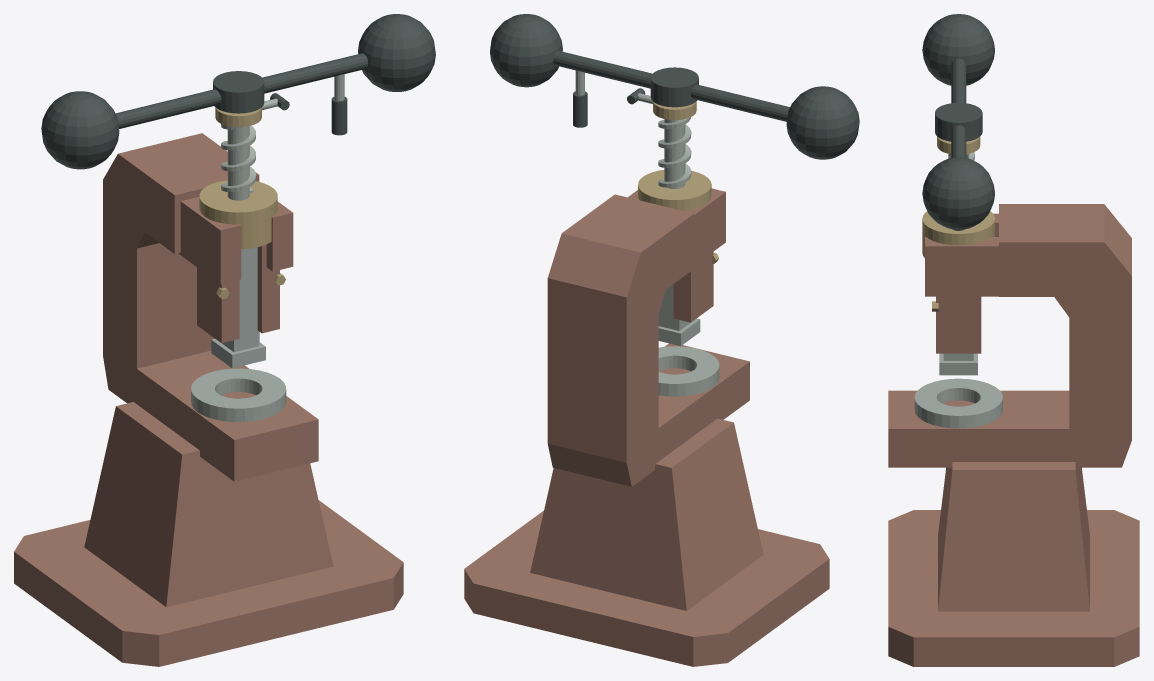
The picture shows the model from 3 angles, left to right: view 1: azimuth 30°, elevation 25°; view 2: azimuth 150°, elevation 25°; view 3: azimuth 270°, elevation 25°; orthographic projection. The views are drawn at different scales.
Visible parts, largest first — view 1: WholeContinuousOpenCMainCasting, WholeTaperedSupportingPedestal, WholeChamferedGroundSole, WholeRoundedFlyArmWeight0, WholeRoundedFlyArmWeight1, WholeAnnularLowerBedRing, WholeUpperNutSupportCheek0, WholeFullTransverseFlyArm, WholeUpperAnnularScrewNutExterior, WholeSquareRamGuideBlock0, WholeCompleteSquareGuidedRam, WholeFlyArmCentralHub (+6 smaller); view 2: WholeContinuousOpenCMainCasting, WholeTaperedSupportingPedestal, WholeChamferedGroundSole, WholeRoundedFlyArmWeight0, WholeRoundedFlyArmWeight1, WholeFullTransverseFlyArm, WholeAnnularLowerBedRing, WholeUpperAnnularScrewNutExterior, WholeSquareRamGuideBlock0, WholeUpperNutSupportCheek0, WholeFlyArmCentralHub, WholeCoarseFourTurnScrewRib (+3 smaller); view 3: WholeContinuousOpenCMainCasting, WholeChamferedGroundSole, WholeTaperedSupportingPedestal, WholeRoundedFlyArmWeight1, WholeUpperNutSupportCheek1, WholeRoundedFlyArmWeight0, WholeAnnularLowerBedRing, WholeSquareRamGuideBlock1, WholeUpperAnnularScrewNutExterior, WholeFlyArmCentralHub, WholeFullTransverseFlyArm, WholeBluntLowerRamNose (+1 smaller).
Part boxes in pixels (x1=…): WholeContinuousOpenCMainCasting: x1=103, y1=133, x2=318, y2=481; WholeTaperedSupportingPedestal: x1=84, y1=402, x2=333, y2=607; WholeChamferedGroundSole: x1=14, y1=500, x2=403, y2=666; WholeRoundedFlyArmWeight0: x1=41, y1=91, x2=119, y2=169; WholeRoundedFlyArmWeight1: x1=358, y1=14, x2=435, y2=91; WholeAnnularLowerBedRing: x1=191, y1=368, x2=286, y2=422; WholeUpperNutSupportCheek0: x1=178, y1=197, x2=241, y2=284; WholeFullTransverseFlyArm: x1=115, y1=53, x2=367, y2=128; WholeUpperAnnularScrewNutExterior: x1=199, y1=180, x2=277, y2=249; WholeSquareRamGuideBlock0: x1=197, y1=267, x2=239, y2=343; WholeCompleteSquareGuidedRam: x1=222, y1=247, x2=259, y2=351; WholeFlyArmCentralHub: x1=213, y1=71, x2=264, y2=113; WholeContinuousOpenCMainCasting: x1=547, y1=194, x2=749, y2=486; WholeTaperedSupportingPedestal: x1=530, y1=418, x2=763, y2=610; WholeChamferedGroundSole: x1=464, y1=510, x2=829, y2=666; WholeRoundedFlyArmWeight0: x1=786, y1=86, x2=859, y2=159; WholeRoundedFlyArmWeight1: x1=490, y1=14, x2=562, y2=87; WholeFullTransverseFlyArm: x1=553, y1=50, x2=789, y2=121; WholeAnnularLowerBedRing: x1=658, y1=346, x2=719, y2=396; WholeUpperAnnularScrewNutExterior: x1=638, y1=170, x2=711, y2=210; WholeSquareRamGuideBlock0: x1=673, y1=252, x2=713, y2=322; WholeUpperNutSupportCheek0: x1=684, y1=188, x2=725, y2=265; WholeFlyArmCentralHub: x1=650, y1=67, x2=698, y2=107; WholeCoarseFourTurnScrewRib: x1=658, y1=117, x2=691, y2=187; WholeContinuousOpenCMainCasting: x1=888, y1=204, x2=1131, y2=467; WholeChamferedGroundSole: x1=888, y1=510, x2=1139, y2=666; WholeTaperedSupportingPedestal: x1=938, y1=462, x2=1089, y2=611; WholeRoundedFlyArmWeight1: x1=922, y1=157, x2=994, y2=229; WholeUpperNutSupportCheek1: x1=925, y1=237, x2=998, y2=296; WholeRoundedFlyArmWeight0: x1=922, y1=14, x2=994, y2=85; WholeAnnularLowerBedRing: x1=914, y1=378, x2=1002, y2=428; WholeSquareRamGuideBlock1: x1=936, y1=296, x2=981, y2=353; WholeUpperAnnularScrewNutExterior: x1=922, y1=211, x2=994, y2=257; WholeFlyArmCentralHub: x1=935, y1=102, x2=982, y2=141; WholeFullTransverseFlyArm: x1=951, y1=58, x2=966, y2=157; WholeBluntLowerRamNose: x1=939, y1=353, x2=977, y2=375.
Bounding box in the file's own units: 1.64 × 2.26 × 1.
